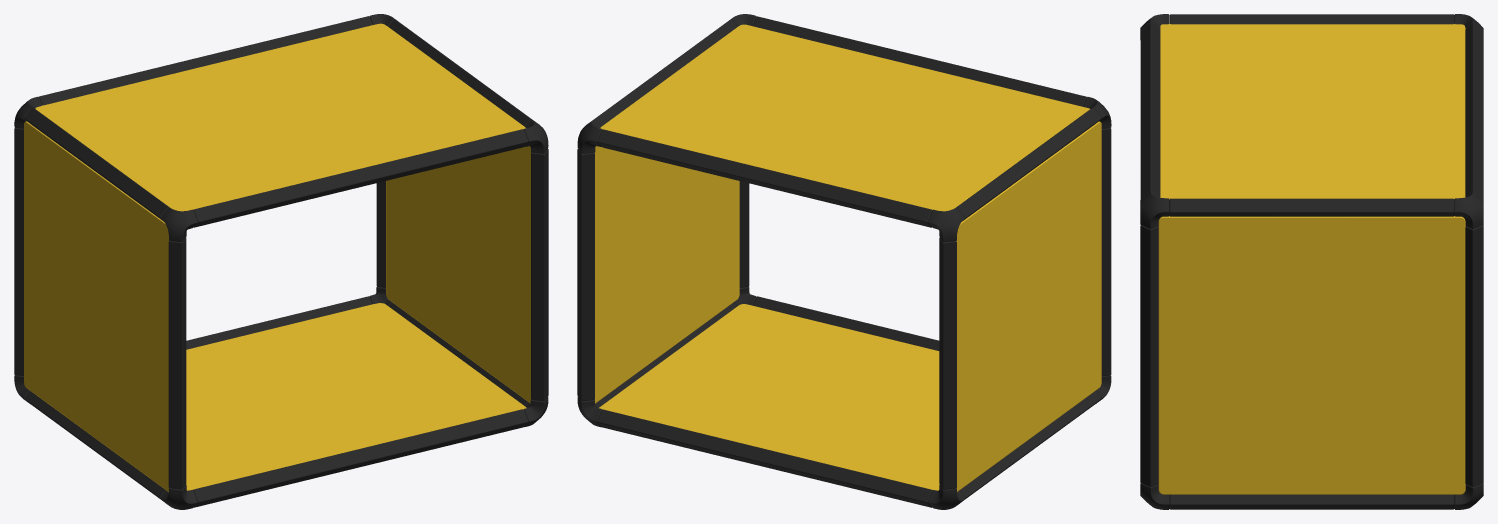
3 renders of one model, left to right at view 1: azimuth 30°, elevation 25°; view 2: azimuth 150°, elevation 25°; view 3: azimuth 270°, elevation 25°, orthographic. The views are drawn at different scales.
Visible parts, largest first — view 1: 523x374x374; view 2: 523x374x374; view 3: 523x374x374.
Part boxes in pixels (left/top/right/bottom): 523x374x374: left=14, top=14, right=548, bottom=509; 523x374x374: left=577, top=14, right=1111, bottom=509; 523x374x374: left=1140, top=14, right=1483, bottom=509.
Size of the model in its own units: 0.6007 by 0.4516 by 0.4514.
